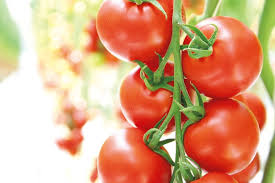tomato: (178, 17, 261, 99), (181, 98, 260, 173), (116, 58, 191, 131), (96, 1, 185, 60), (94, 128, 171, 179)
